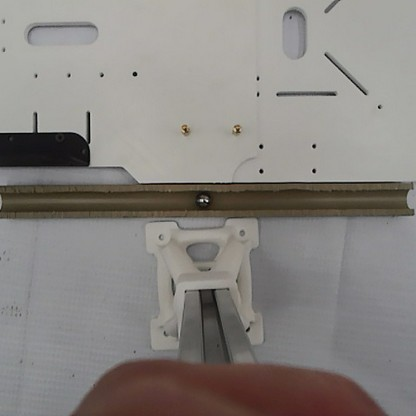ironball: (193, 191, 212, 210)
